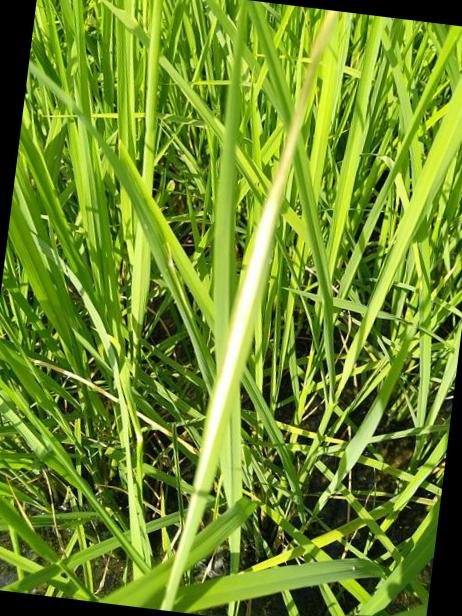Leaf Blight: (192, 10, 341, 494)
